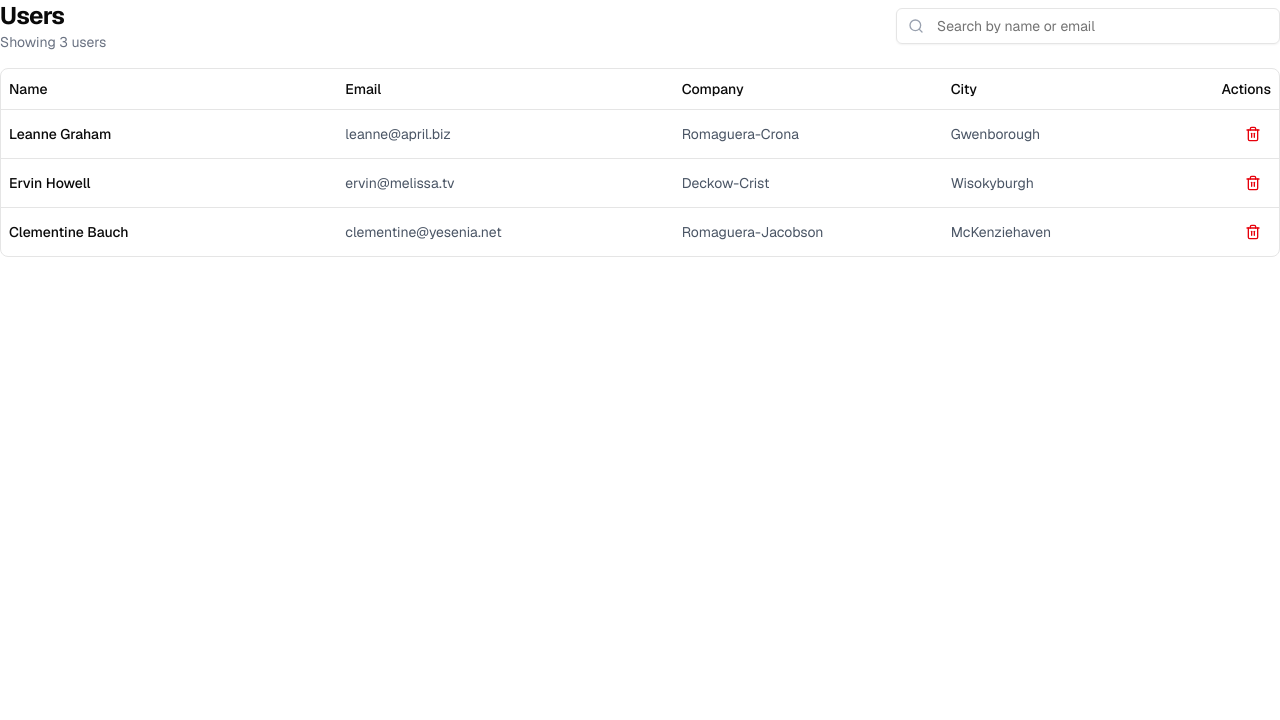
Test: UserTable Integration Tests › Delete Functionality › should open delete dialog when delete button clicked
The width and height of the screenshot is (1280, 720).
Expected: the text "Leanne Graham" is shown, [1, 109, 337, 158]
# Click the delete button in that row
Click the button without text in the row of "Leanne Graham" at (1253, 134), box [1235, 118, 1271, 150]
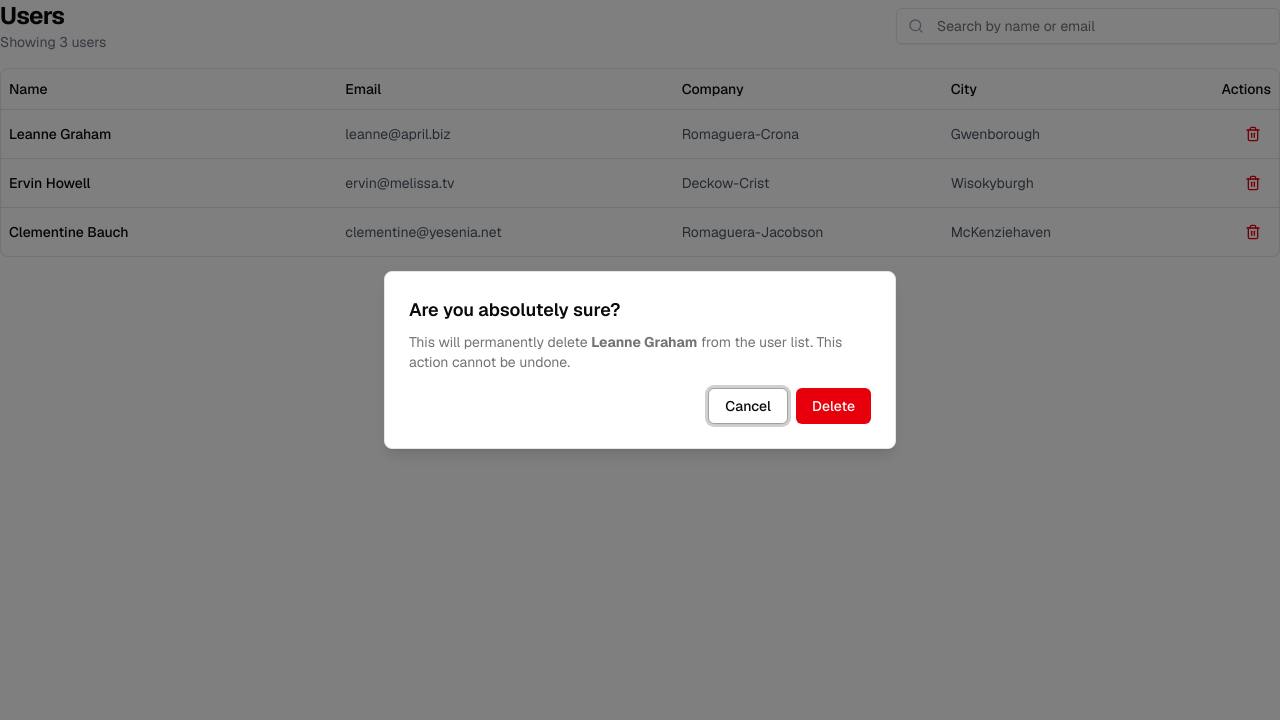
Expected: the text "Leanne Graham" is shown, [1, 109, 337, 158]
Result: the heading "Are you absolutely sure?" is shown at [409, 298, 620, 321]
